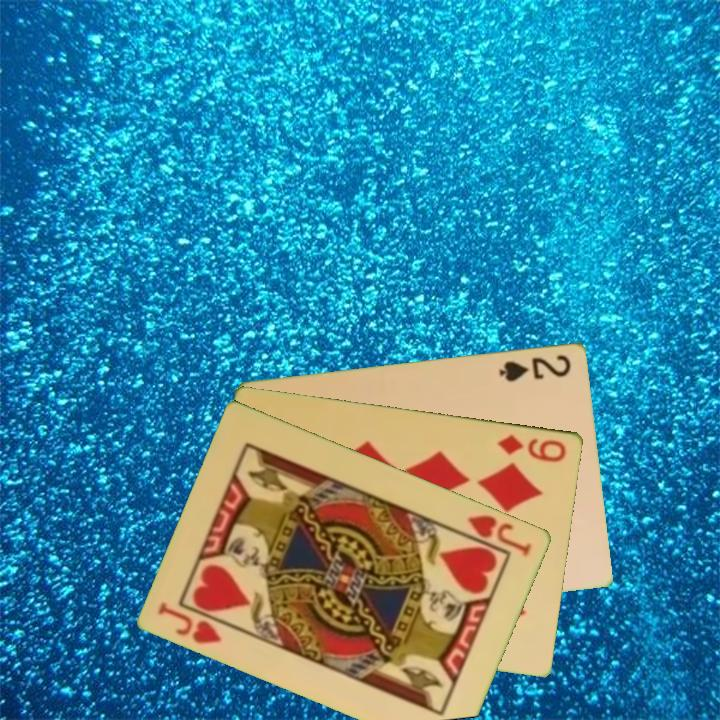2s: (496, 351, 574, 385)
9d: (494, 430, 570, 465)
Jh: (465, 510, 535, 559), (155, 598, 225, 647)
